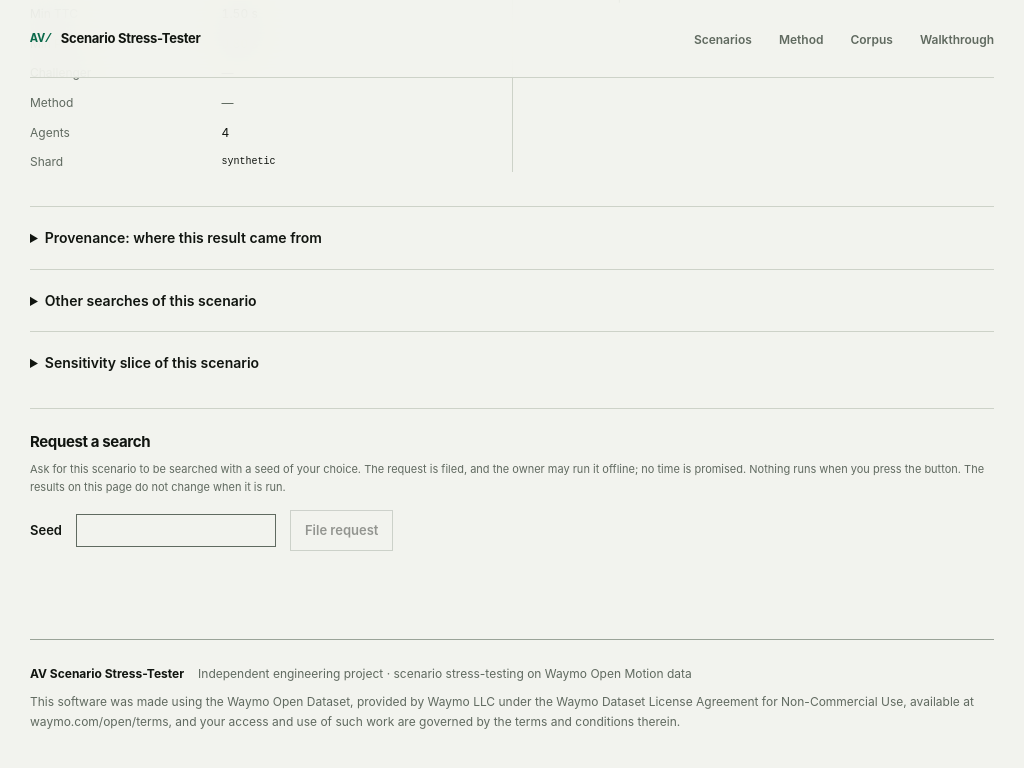
Test: with the switch on › sends exactly the scenario of the page and the seed typed, as one JSON body, and nothing else
This screenshot has width=1024, height=768.
(page scrolled)
Type "7" into the field labelled "Seed" at (176, 530), box [76,514,276,546]
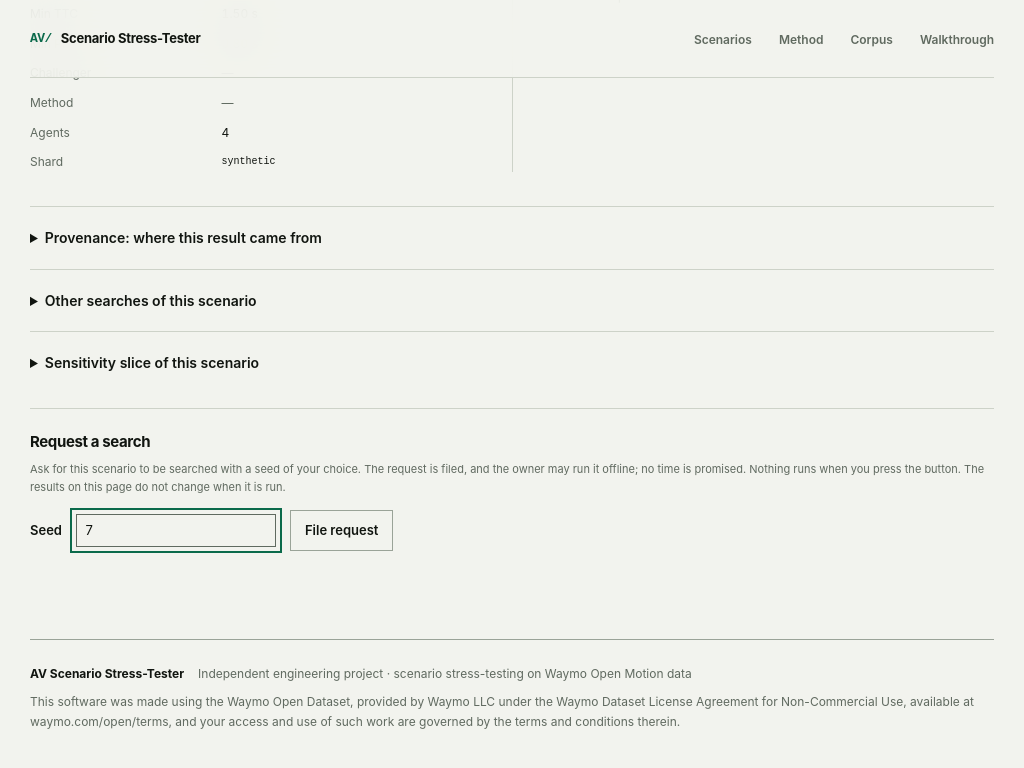
Click the button "File request" at (342, 530), box [290,510,394,550]
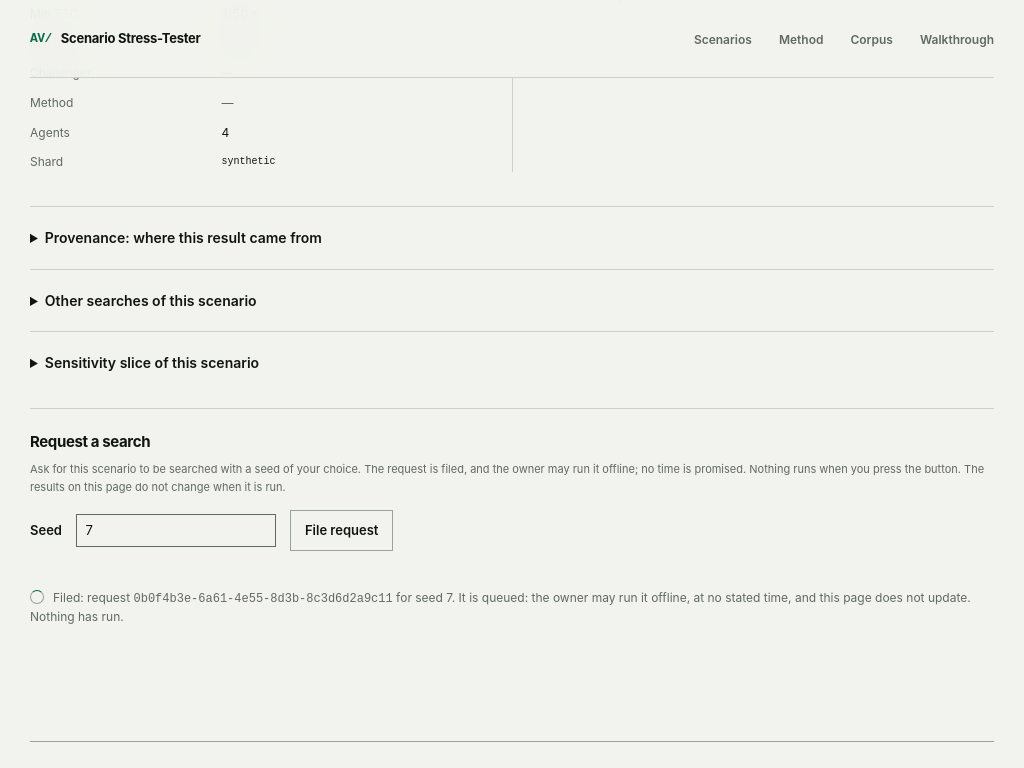
Expected: the text "Nothing has run" is shown, [30,590,971,624]
